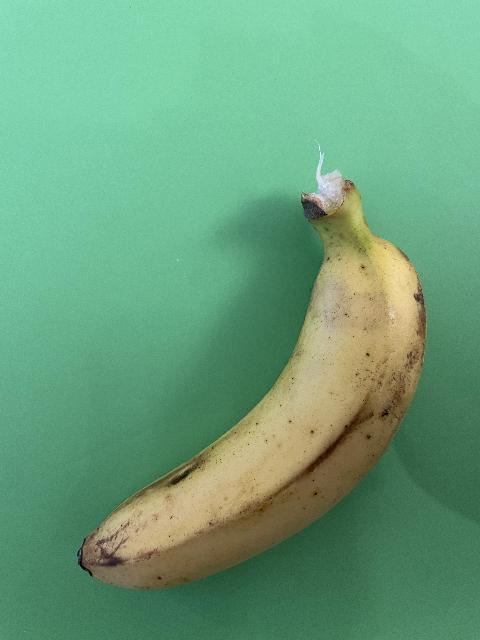banana: (76, 170, 426, 592)
